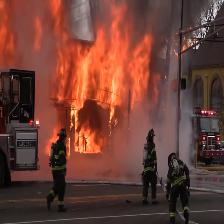fire: (57, 47, 112, 152), (113, 46, 148, 101)
